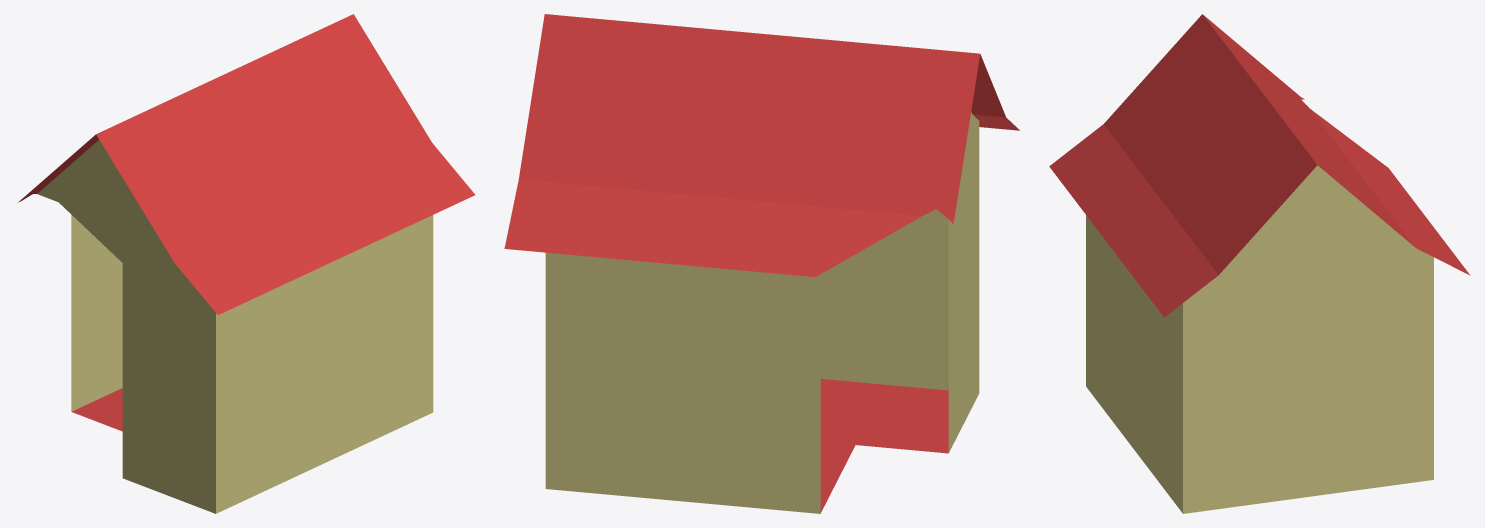
3 views of the same model, side by side, from view 1: azimuth 30°, elevation 25°; view 2: azimuth 150°, elevation 25°; view 3: azimuth 270°, elevation 25° (orthographic). The views are drawn at different scales.
Size of the model in its own units: 15.07 by 14.44 by 12.98.
